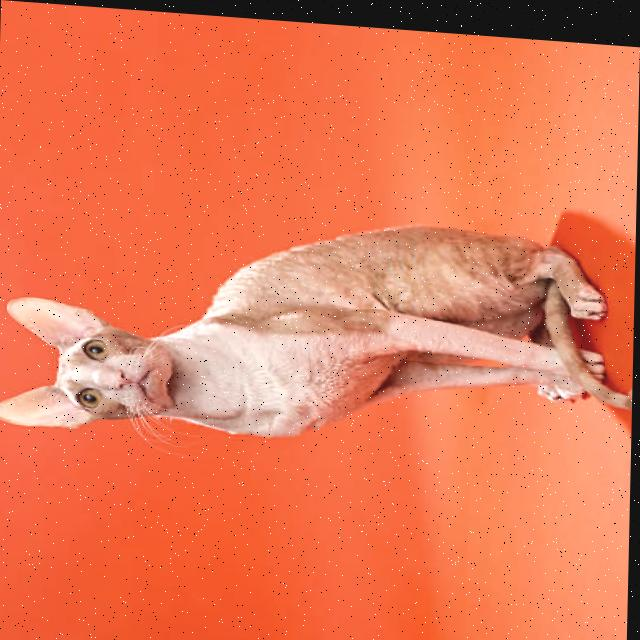Cornish Rex: (0, 188, 637, 467)
